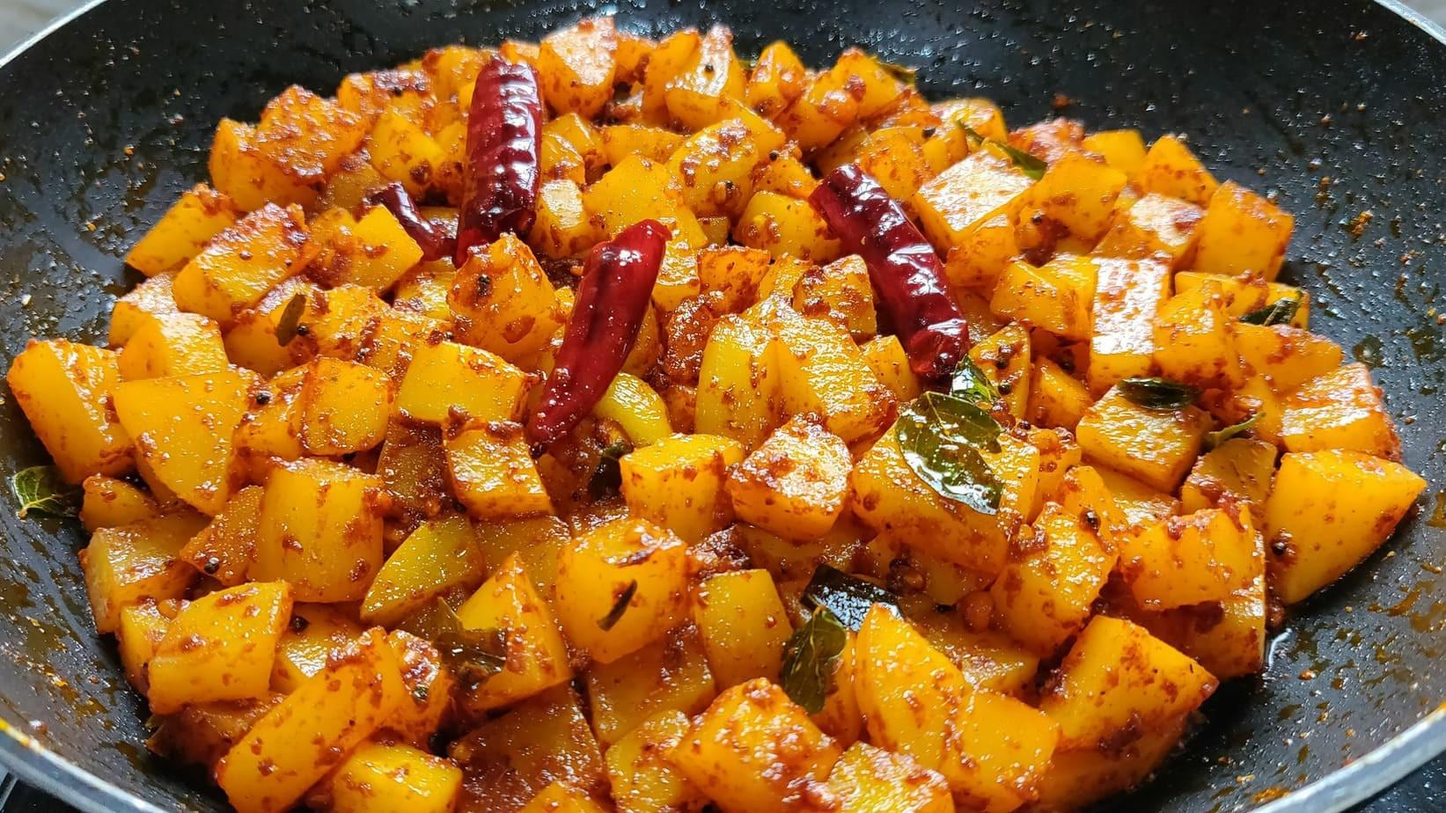AlooMasala: (0, 14, 1428, 812)
